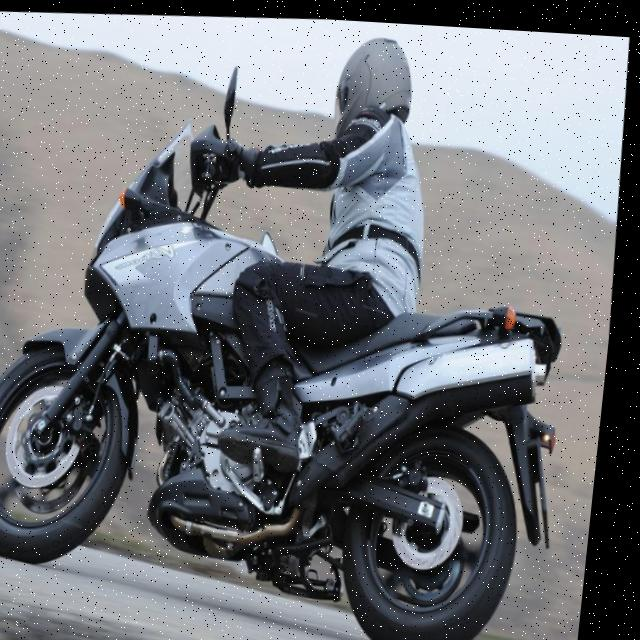helmet: (327, 23, 424, 142)
